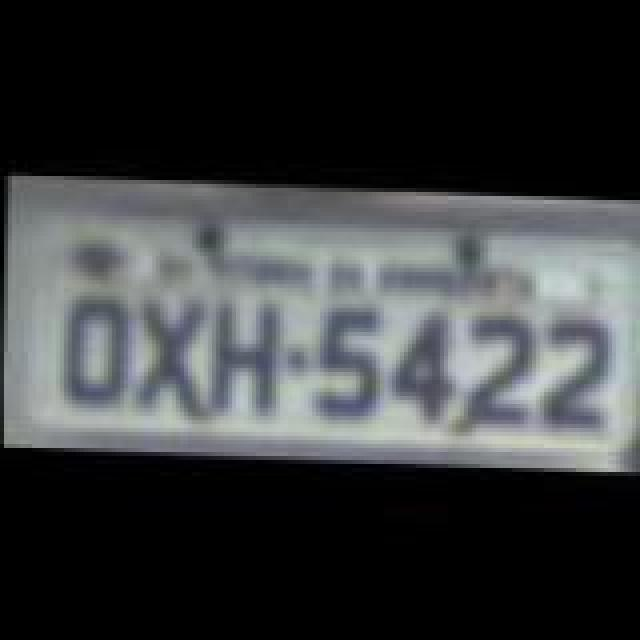2: (536, 312, 616, 432), (456, 308, 536, 428)
4: (382, 300, 458, 424)
5: (314, 296, 382, 420)
H: (204, 300, 276, 420)
O: (58, 292, 134, 412)
X: (134, 294, 210, 414)
